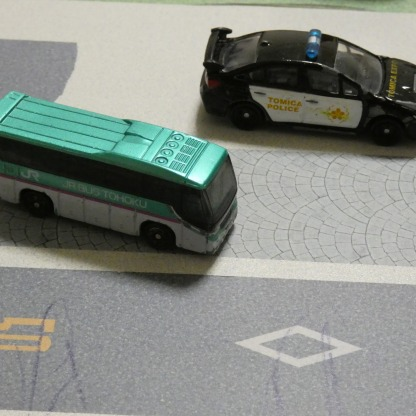car: (0, 90, 260, 260), (203, 19, 416, 144)
